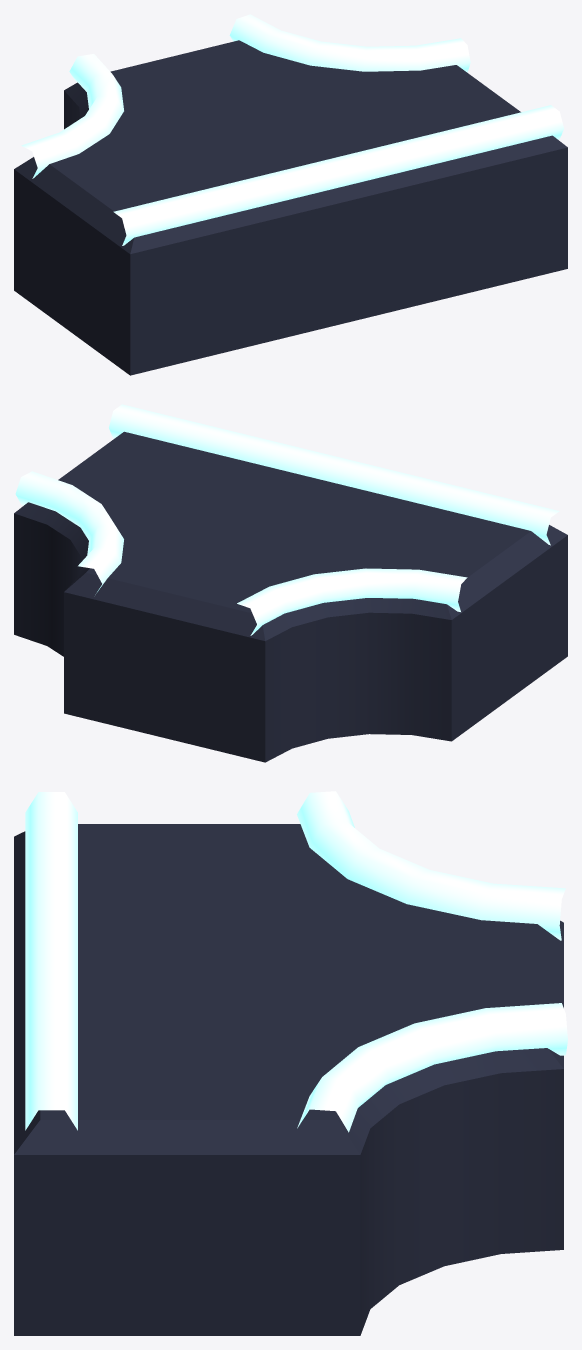
The model's file is wall_t.glb.
3 renders of one model, top to bottom at view 1: azimuth 30°, elevation 25°; view 2: azimuth 150°, elevation 25°; view 3: azimuth 270°, elevation 25°, orthographic. The views are drawn at different scales.
Visible parts, largest first — view 1: wall_t; view 2: wall_t; view 3: wall_t.
Boxes of the visible parts, box(x1,y1,x2,y2) form: wall_t: box(14, 14, 567, 375); wall_t: box(14, 404, 567, 762); wall_t: box(14, 791, 567, 1335).
Bounding box in the file's own units: 1.01 × 0.3303 × 0.7355.
